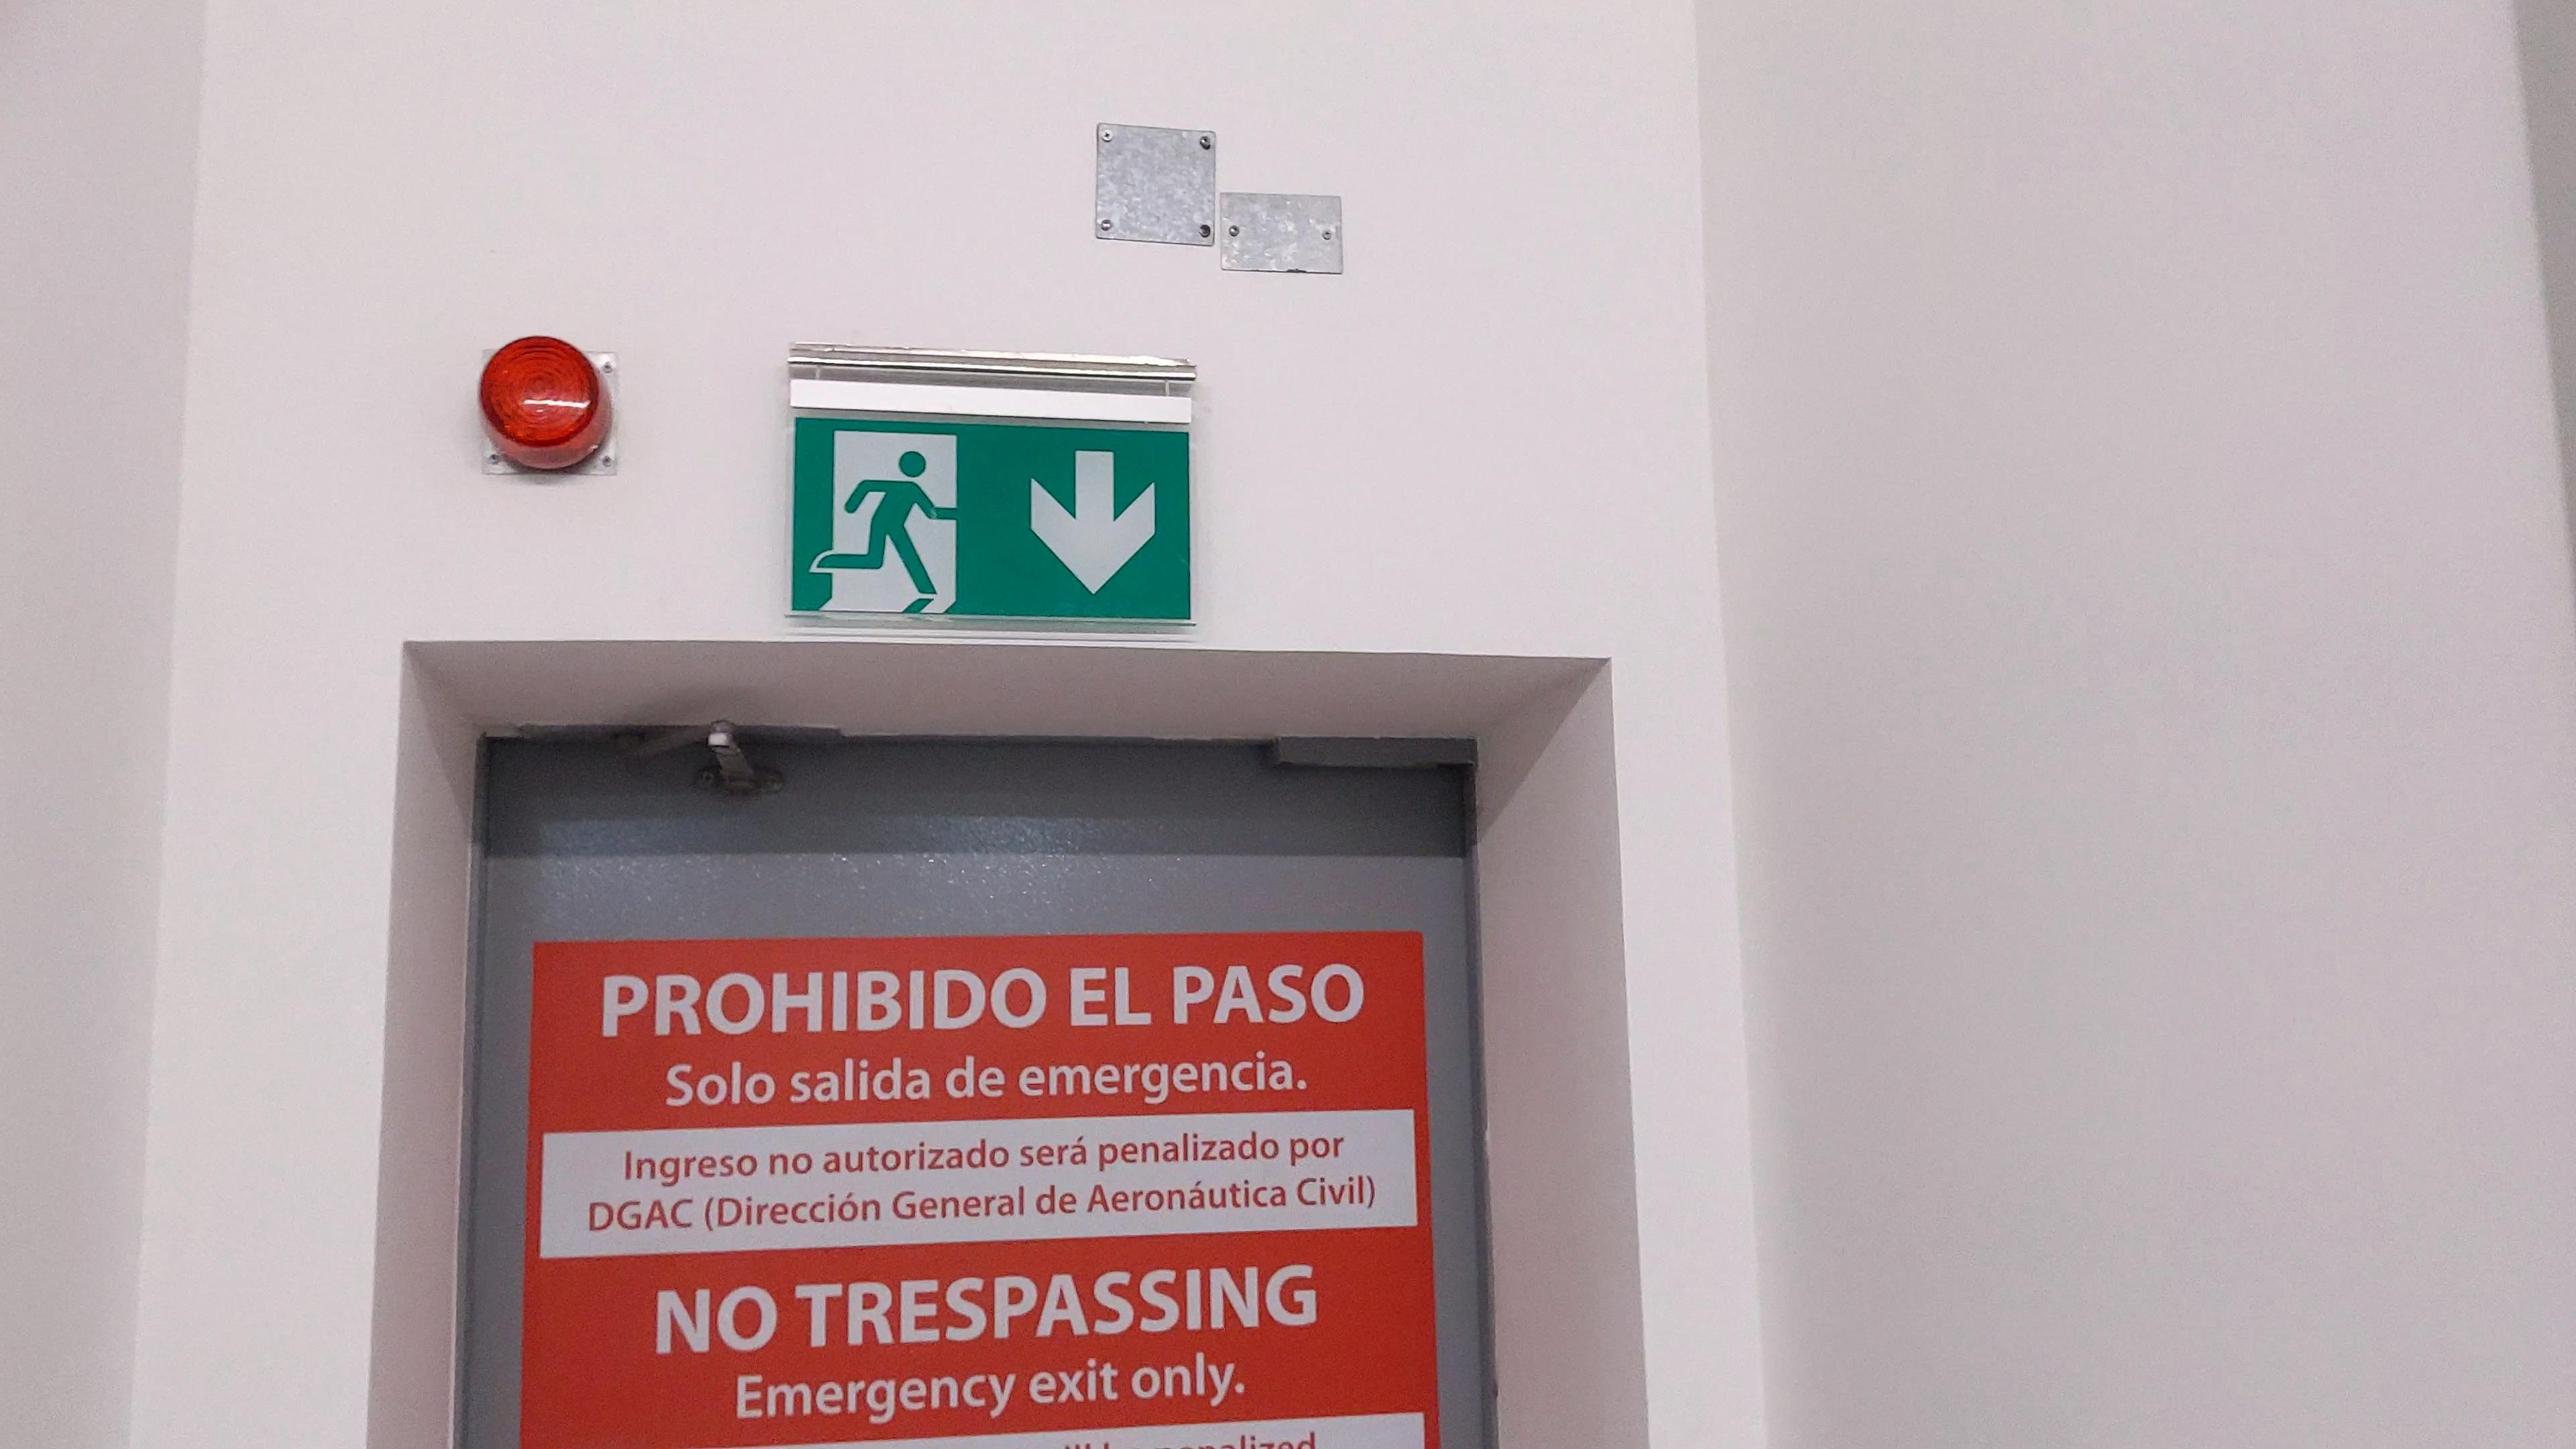emergency down arrow: (1023, 444, 1168, 602)
emergency exit: (805, 421, 970, 619)
no trespassing: (531, 932, 1435, 1426)
